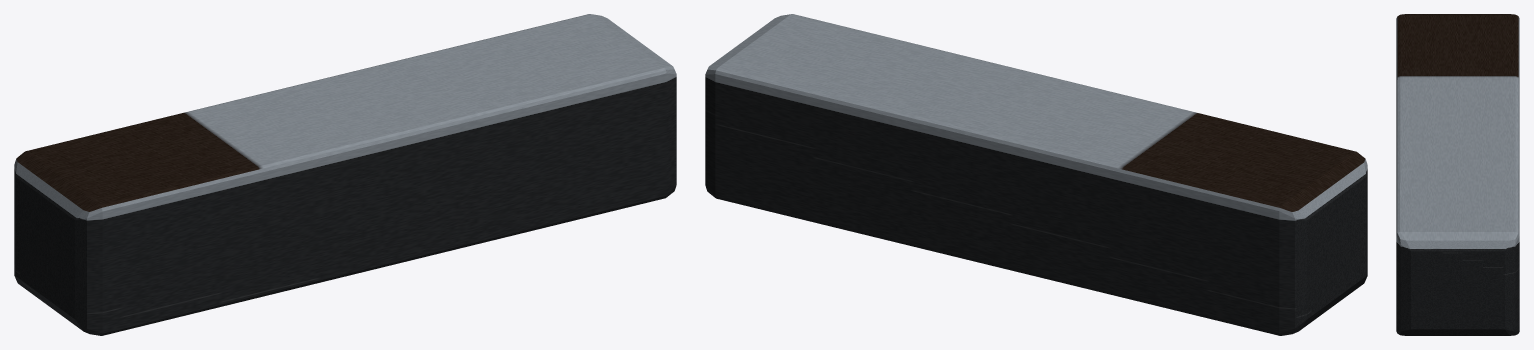
Rendered from dragonslayer_guard.fbx.
3 renders of one model, left to right at view 1: azimuth 30°, elevation 25°; view 2: azimuth 150°, elevation 25°; view 3: azimuth 270°, elevation 25°, orthographic. The views are drawn at different scales.
Visible parts, largest first — view 1: dragonslayer_guard; view 2: dragonslayer_guard; view 3: dragonslayer_guard.
Boxes of the visible parts, x1=… form: dragonslayer_guard: x1=14, y1=14, x2=676, y2=335; dragonslayer_guard: x1=705, y1=14, x2=1367, y2=335; dragonslayer_guard: x1=1396, y1=14, x2=1519, y2=335.
Size of what is drawn, in the model's own units: 0.23 by 0.052 by 0.0478.
Materials: 1 (1 with a texture image).
